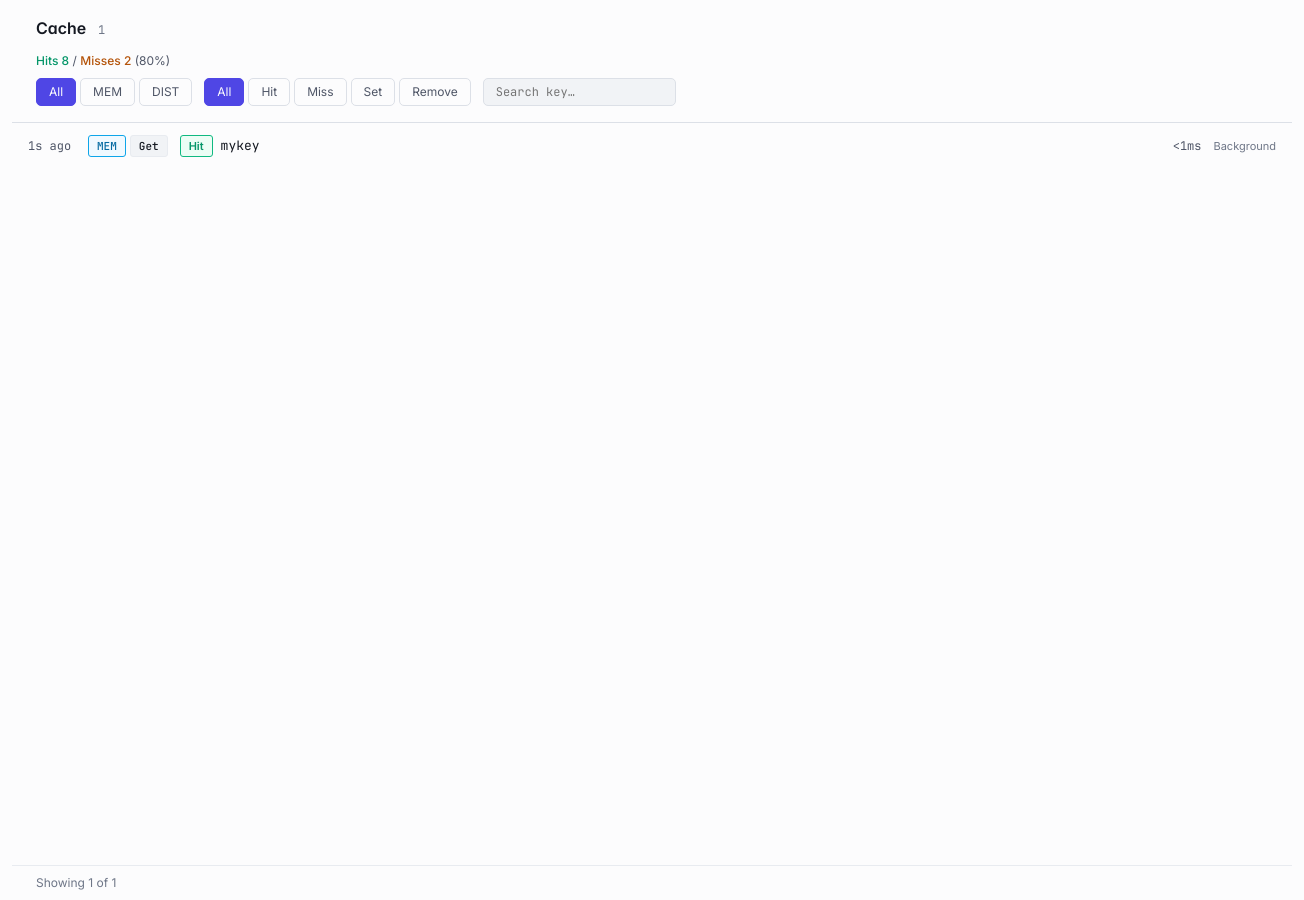
Test case: CachePage › truncates long valueType in expand panel and keeps full type in title
This screenshot has width=1304, height=900.
Expected: the text "mykey" is shown, [221,136,260,156]
Click the button "1s ago MEM Get Hit mykey <1ms Background".
click(50, 146)  # box [12,123,1292,169]
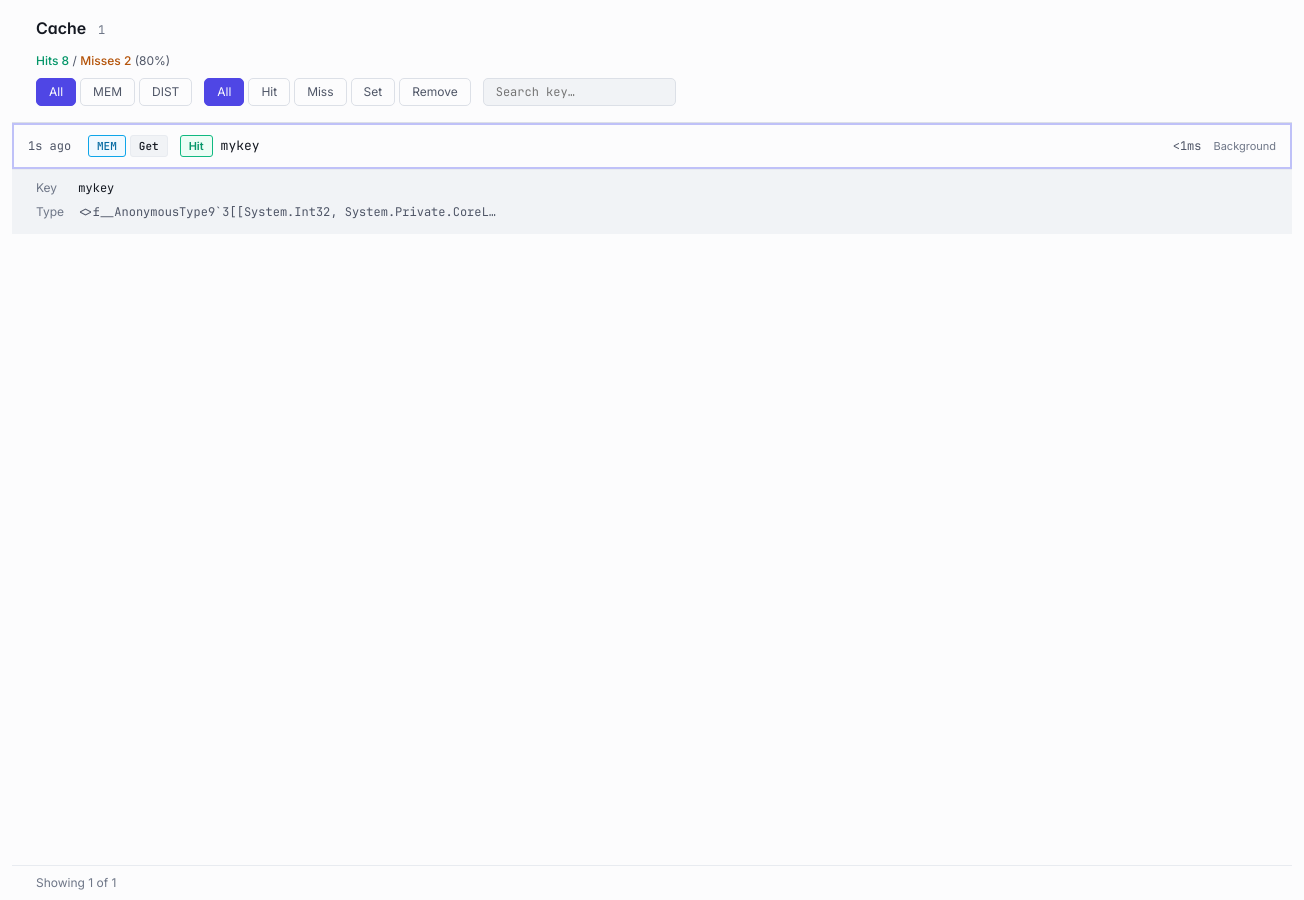
Now the text "<>f__AnonymousType9`3[ [System.Int32, System.Private.CoreL…" is shown, box [78,202,496,222]
